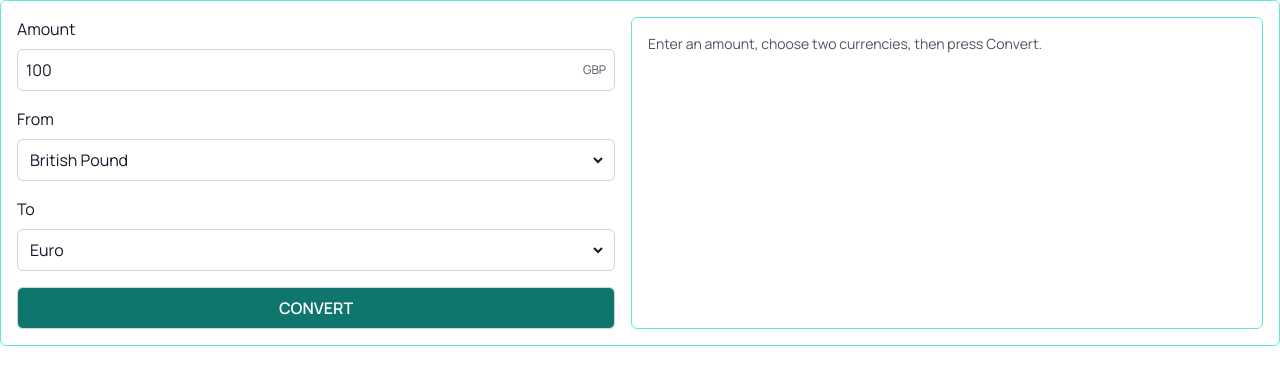
it: CurrencyForm › shows an error when the amount is not a number
This screenshot has width=1280, height=391.
Expected: the dropdown labelled "From" is shown, [26,148,606,172]
Replace the text in the field labelled "Amount" with "99jj" at (298, 70), box [26,58,571,82]
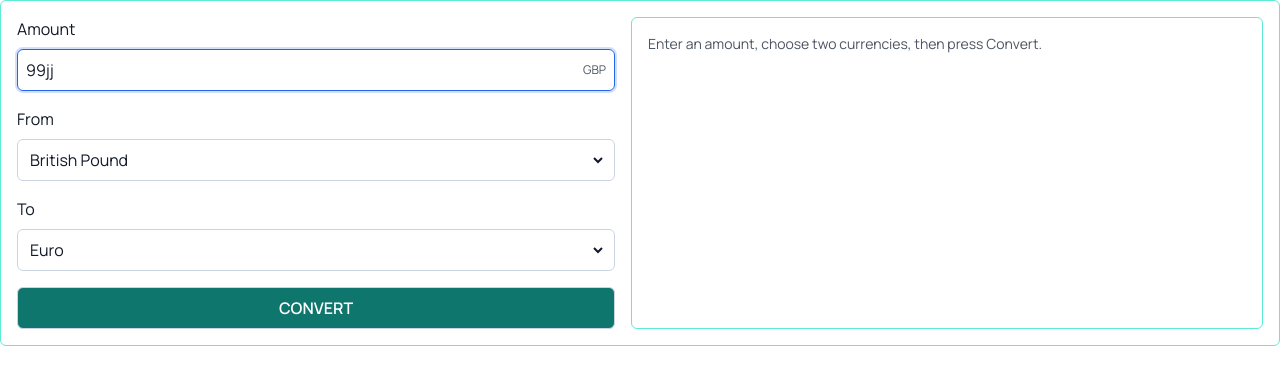
Click the button "CONVERT".
click(316, 308)  # box [17,287,615,329]
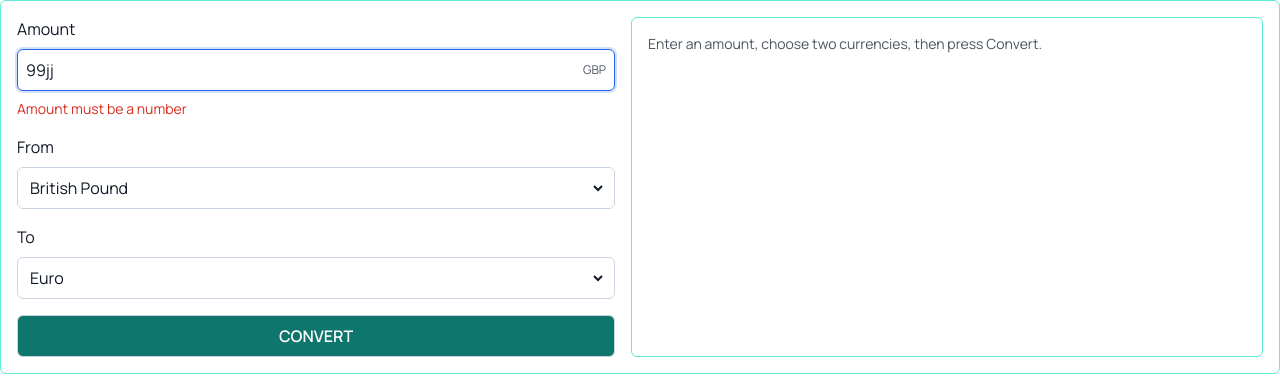
Expected: the text "Amount must be a number" is shown, [17,99,187,118]
